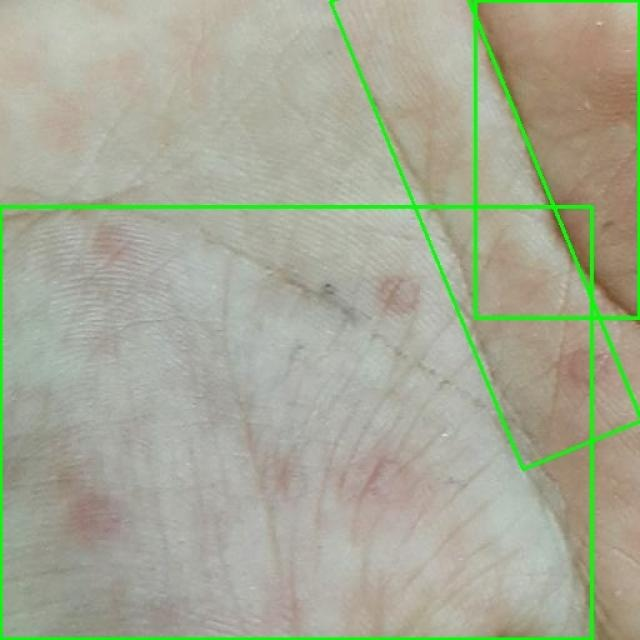Contact Dermatitis: (0, 206, 591, 639), (331, 0, 640, 469), (475, 0, 639, 318)
